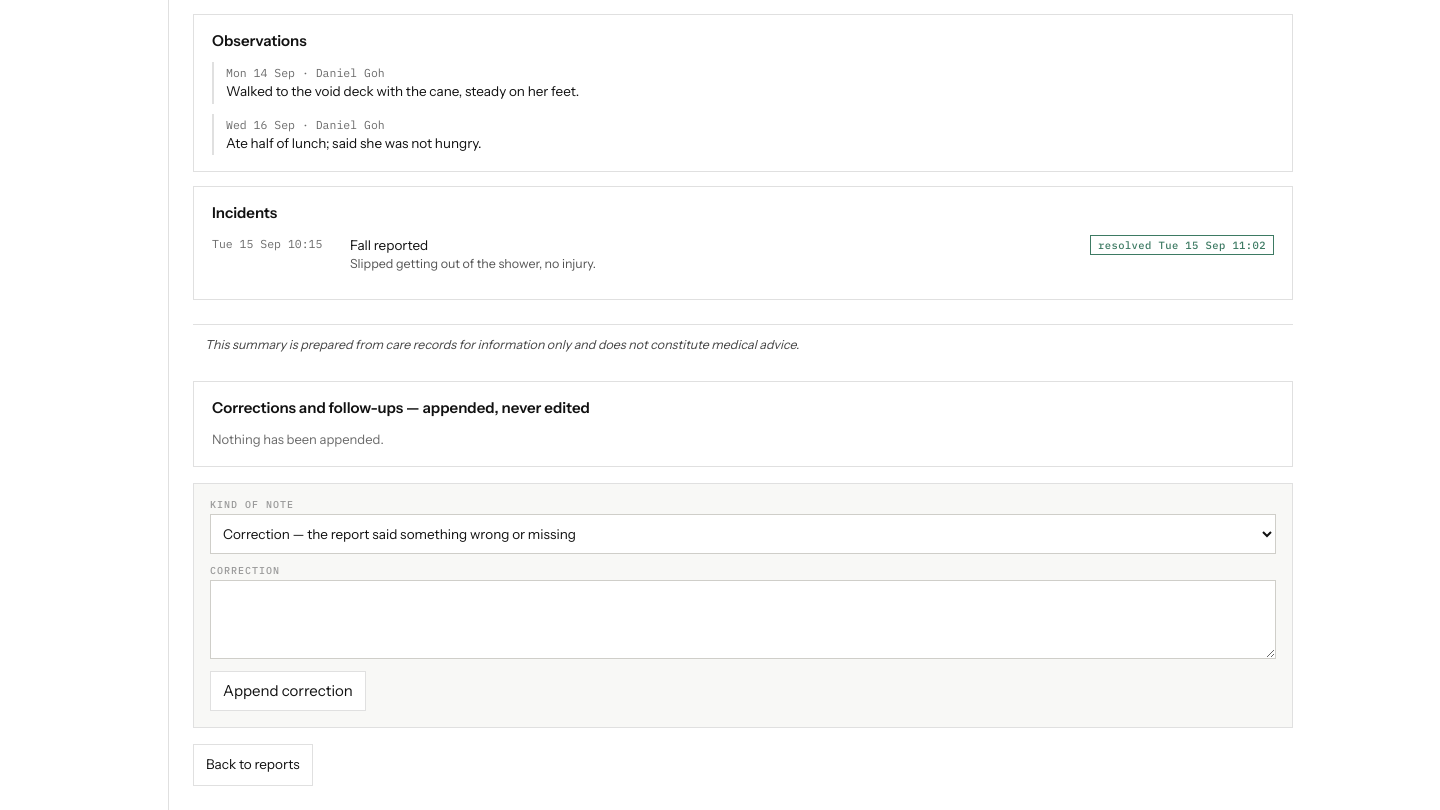
Test: one report › appends a correction and reads the report again rather than adding it on screen
(page scrolled)
Type "Grace was in hospital on Friday; the visit was not due." into the text box labelled "Correction" at (743, 619), box [210,580,1276,659]
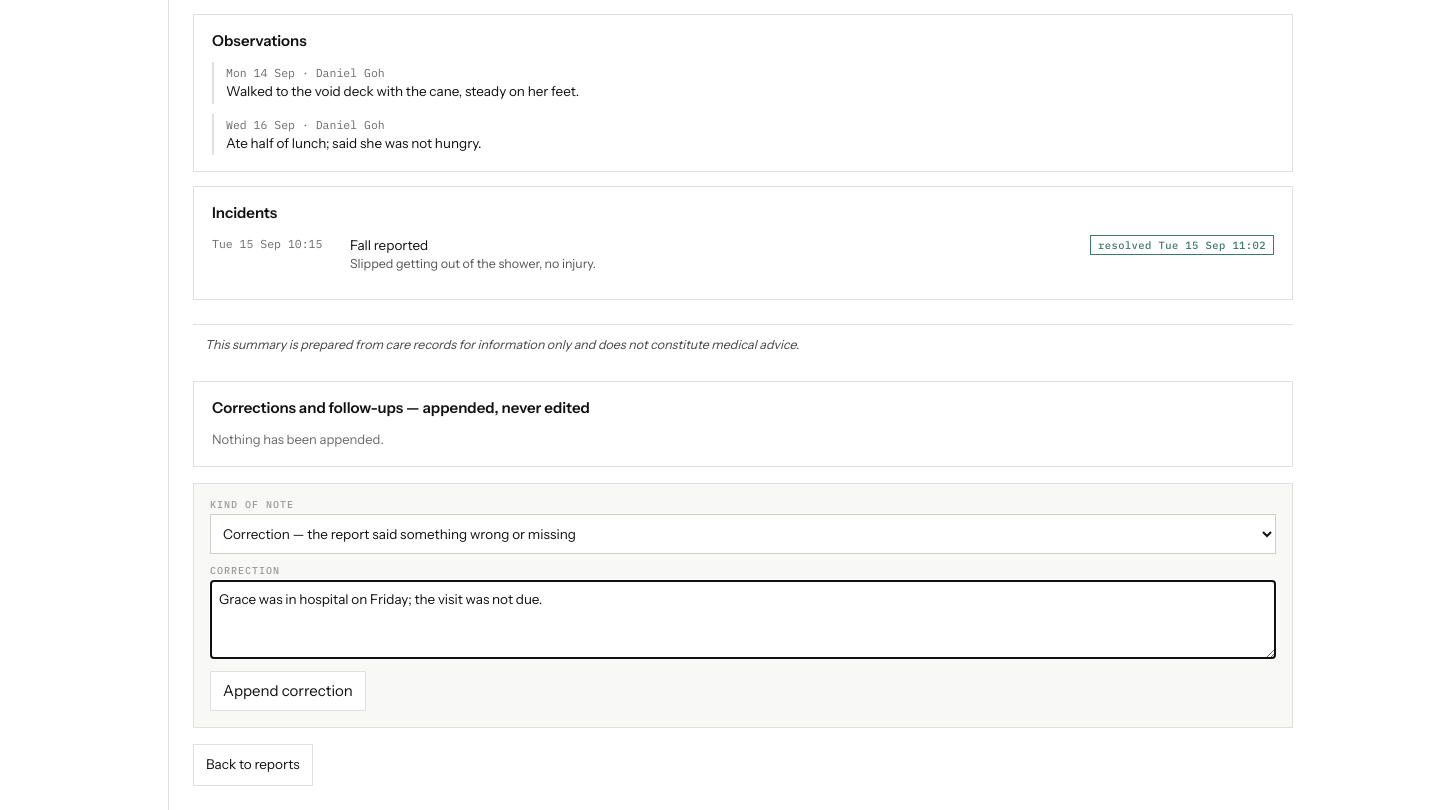
Click the button "Append correction" at (288, 691), box [210,671,366,711]
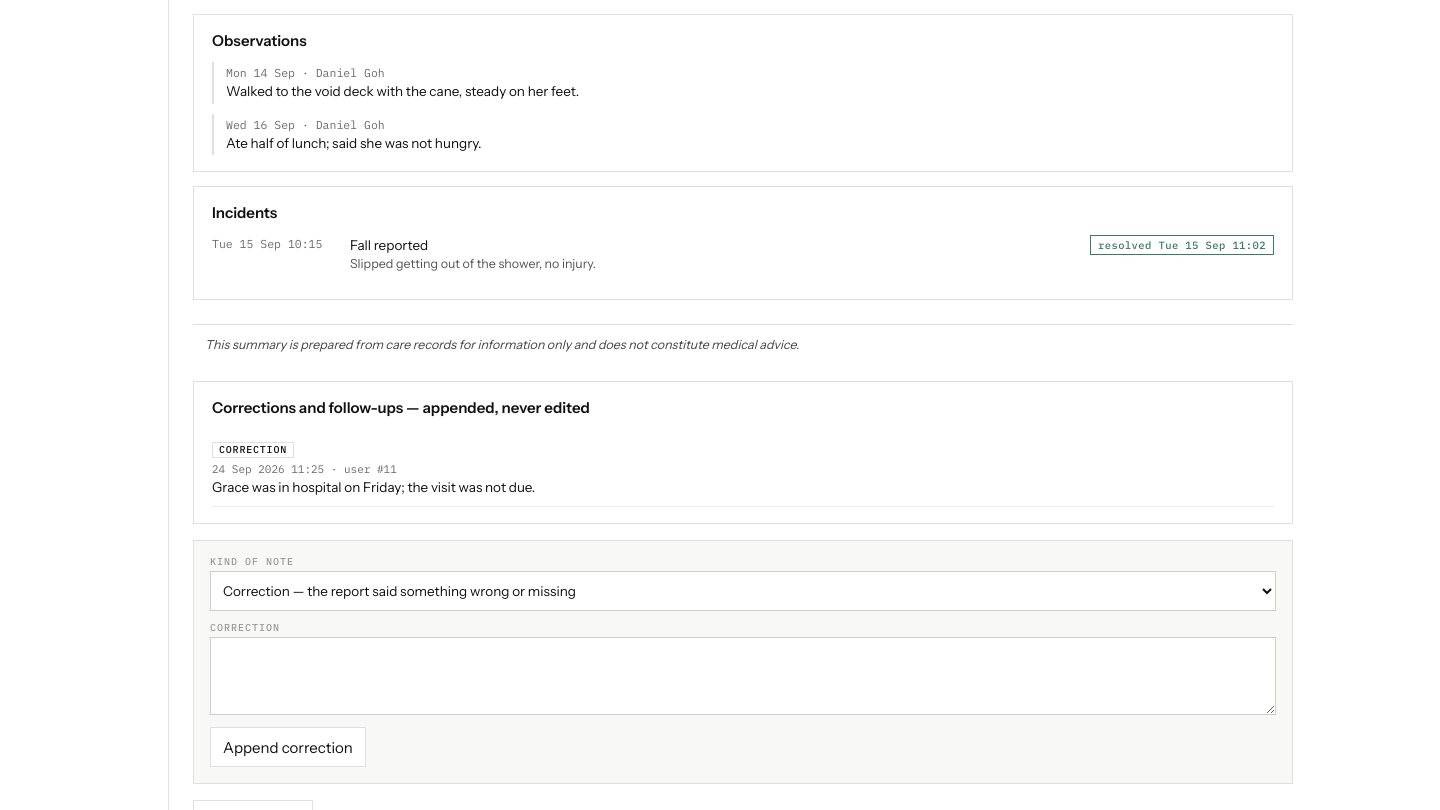
Now the text "Grace was in hospital on Friday; the visit was not due." is shown, box [212,480,535,496]
Now the text "24 Sep 2026 11:25 · user #11" is shown, box [212,462,397,476]
Now the text box labelled "Correction" is empty, box [210,637,1276,716]
